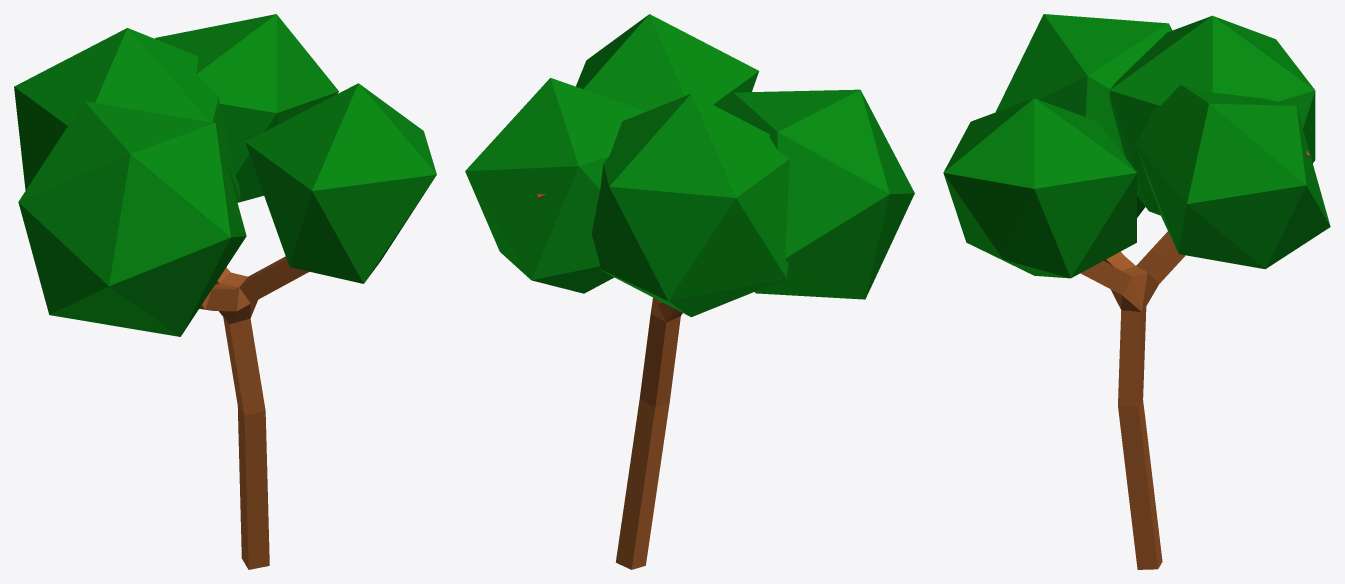
The model's file is tree1.glb.
The picture shows the model from 3 angles, left to right: view 1: azimuth 30°, elevation 25°; view 2: azimuth 150°, elevation 25°; view 3: azimuth 270°, elevation 25°; orthographic projection. The views are drawn at different scales.
Parts seen in each view (by area): view 1: Tree1; view 2: Tree1; view 3: Tree1.
Boxes of the visible parts, left/top/right/bottom form: Tree1: left=14, top=14, right=436, bottom=569; Tree1: left=465, top=14, right=914, bottom=569; Tree1: left=943, top=14, right=1330, bottom=569.
Size of the model in its own units: 9.33 by 13.28 by 9.18.
